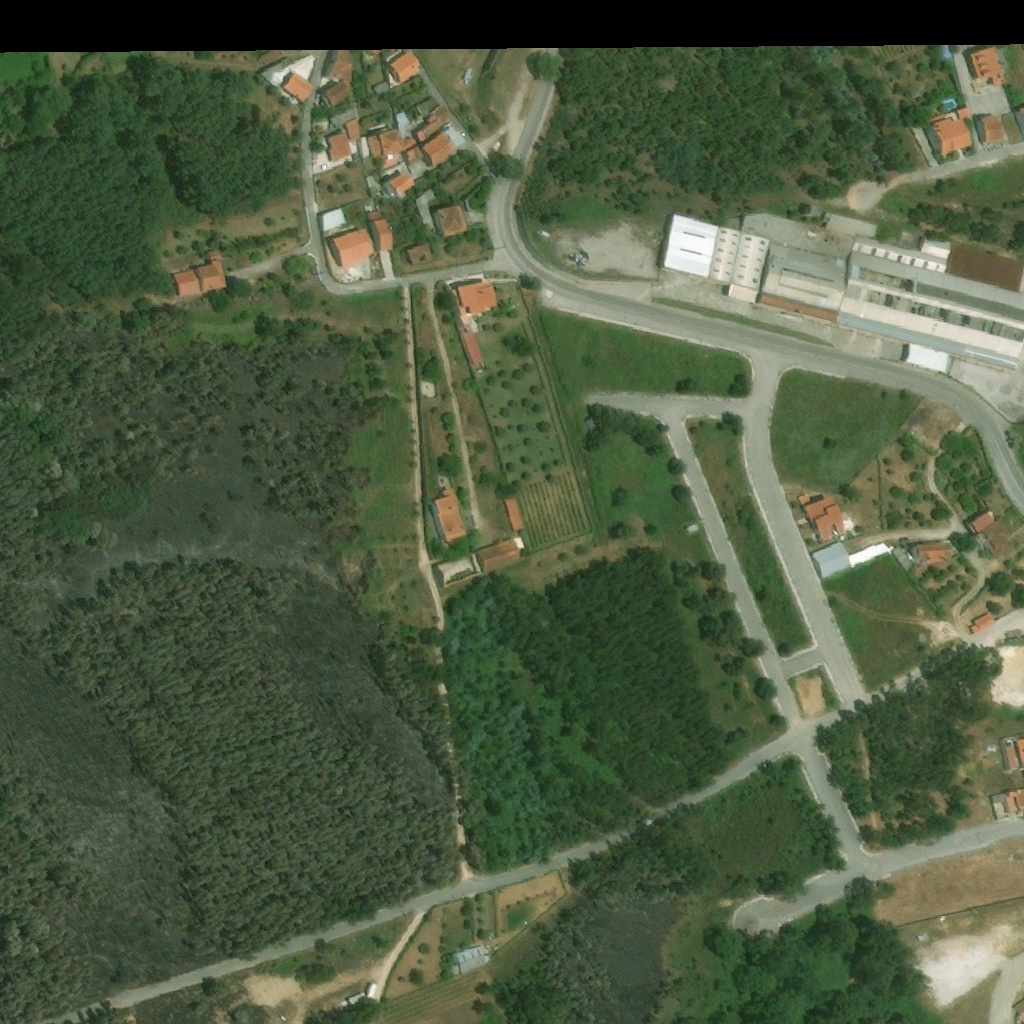0 no-damage: (657, 212, 1019, 376), (165, 254, 230, 304), (811, 540, 890, 580), (798, 491, 847, 545), (925, 107, 973, 159), (359, 128, 416, 170), (432, 485, 470, 546), (406, 131, 458, 170), (967, 45, 1007, 88), (474, 539, 520, 575), (411, 105, 453, 144), (321, 43, 355, 86), (458, 280, 499, 315), (447, 945, 491, 977), (431, 203, 470, 239), (980, 519, 1015, 558), (279, 70, 318, 104), (366, 209, 395, 254), (388, 51, 424, 87), (991, 788, 1022, 821), (343, 229, 377, 259), (383, 169, 417, 199), (324, 133, 354, 164), (978, 114, 1006, 147), (964, 508, 996, 535), (327, 103, 355, 131), (360, 110, 392, 134), (321, 84, 351, 109), (404, 242, 434, 266), (463, 331, 484, 365), (364, 43, 399, 63), (913, 543, 953, 560), (969, 611, 996, 636), (321, 208, 347, 233), (416, 96, 438, 119), (394, 112, 411, 140), (584, 413, 601, 435), (344, 120, 359, 143), (260, 49, 279, 66), (371, 83, 390, 98), (348, 992, 368, 1006), (422, 379, 435, 398), (686, 523, 701, 535), (368, 983, 377, 999), (463, 71, 473, 84), (918, 935, 926, 941)
1 minor-damage: (430, 553, 476, 588), (466, 553, 483, 575)
4 un-classified: (1000, 736, 1021, 775)
